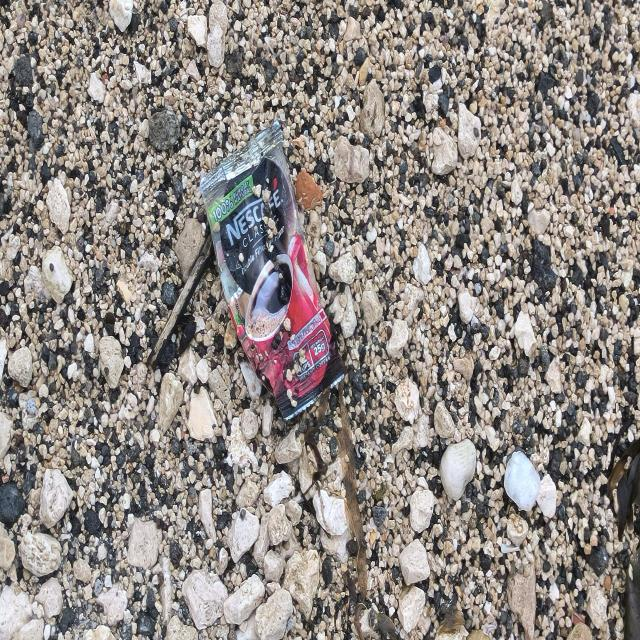litter: (199, 116, 350, 422)
